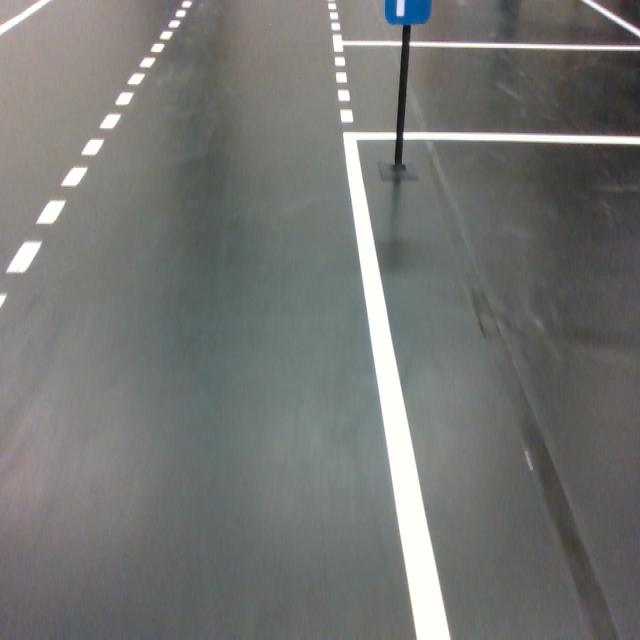parking-sign: (383, 0, 432, 25)
